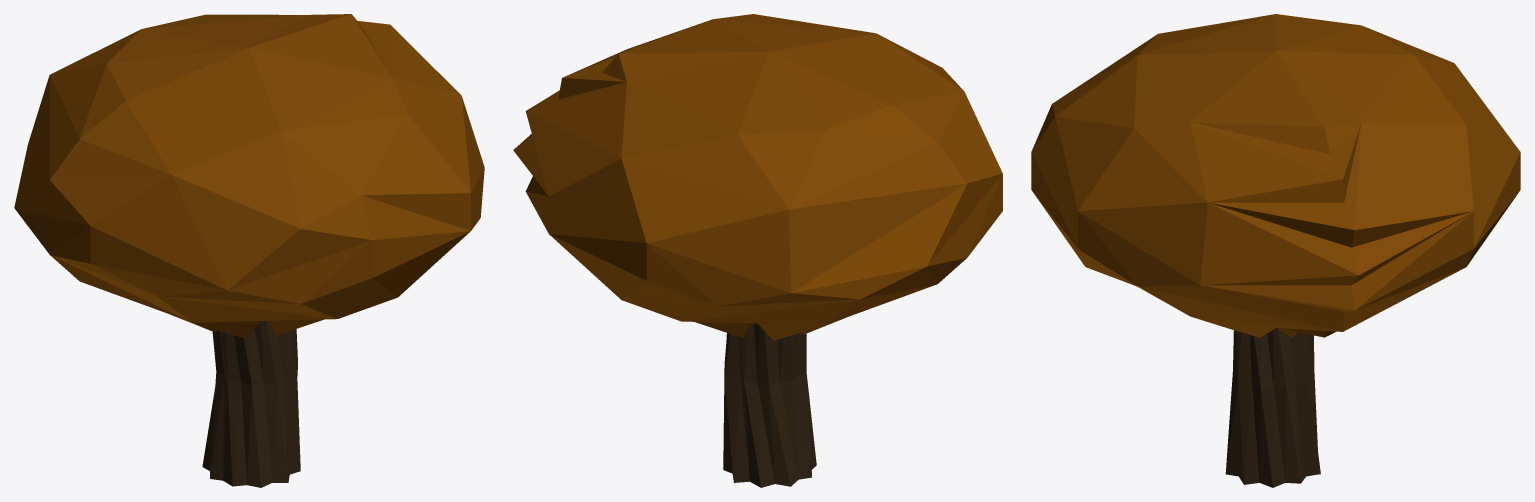
The model's file is ShortFatTree_Orange.fbx.
3 views of the same model, side by side, from view 1: azimuth 30°, elevation 25°; view 2: azimuth 150°, elevation 25°; view 3: azimuth 270°, elevation 25° (orthographic).
Visible parts, largest first — view 1: Trees:pSphere3, Trees:pCylinder3; view 2: Trees:pSphere3, Trees:pCylinder3; view 3: Trees:pSphere3, Trees:pCylinder3.
Part boxes in pixels (bbox=[...]): Trees:pSphere3: bbox=[14, 14, 484, 338]; Trees:pCylinder3: bbox=[202, 321, 300, 487]; Trees:pSphere3: bbox=[513, 14, 1002, 340]; Trees:pCylinder3: bbox=[723, 323, 816, 487]; Trees:pSphere3: bbox=[1031, 14, 1520, 337]; Trees:pCylinder3: bbox=[1225, 328, 1320, 487].
Size of the model in its own units: 0.2629 by 0.2542 by 0.2702.
